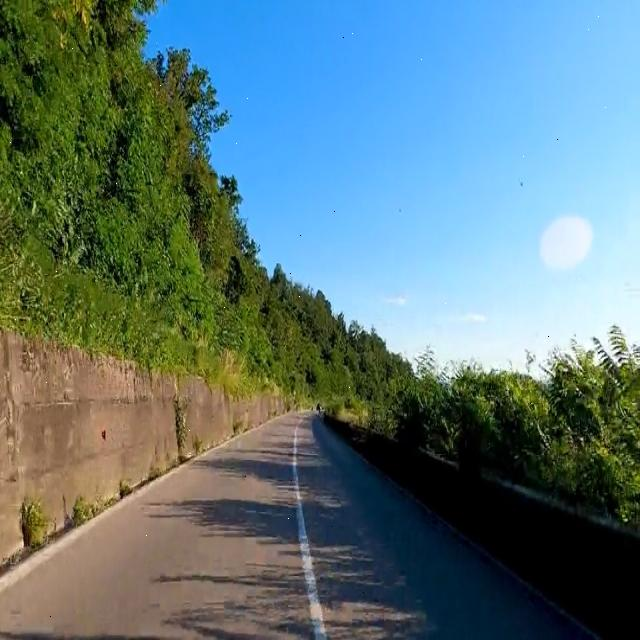lane: (293, 427, 327, 639)
road: (1, 411, 587, 638)
